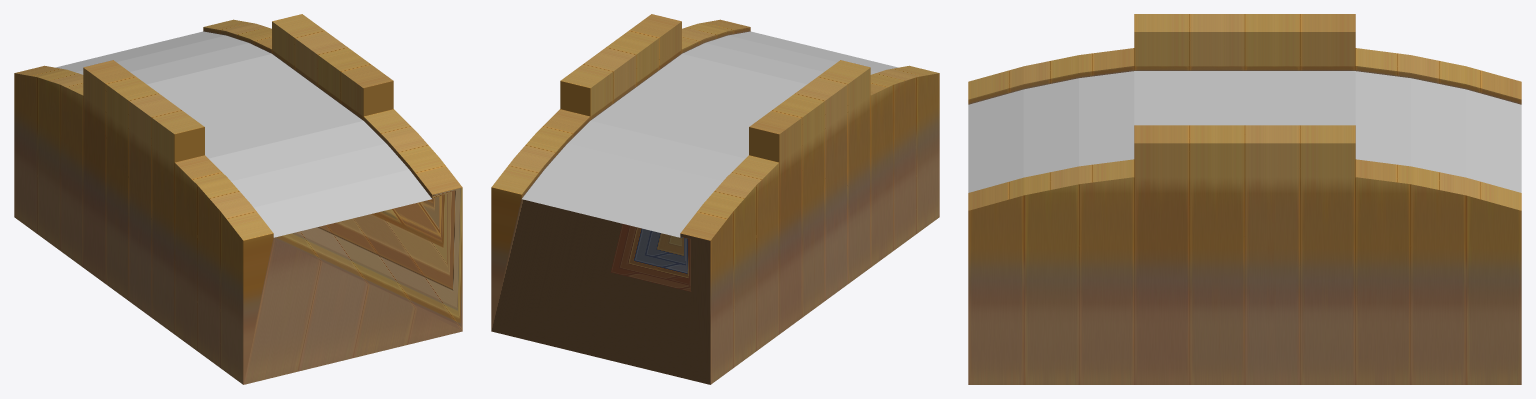
The model's file is Bridge02_a01_col.FBX.
3 views of the same model, side by side, from view 1: azimuth 30°, elevation 25°; view 2: azimuth 150°, elevation 25°; view 3: azimuth 270°, elevation 25° (orthographic). The views are drawn at different scales.
Parts seen in each view (by area): view 1: Bridge02_a01_col; view 2: Bridge02_a01_col; view 3: Bridge02_a01_col.
Boxes of the visible parts, box(x1,y1,x2,y2) form: Bridge02_a01_col: box(14, 14, 462, 384); Bridge02_a01_col: box(491, 14, 939, 384); Bridge02_a01_col: box(968, 14, 1521, 384).
Bounding box in the file's own units: 985 × 860 × 1784.
